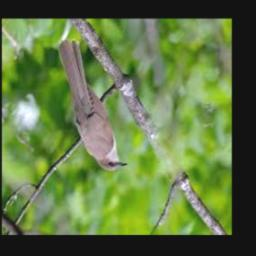Cuckoo: (58, 40, 128, 171)
